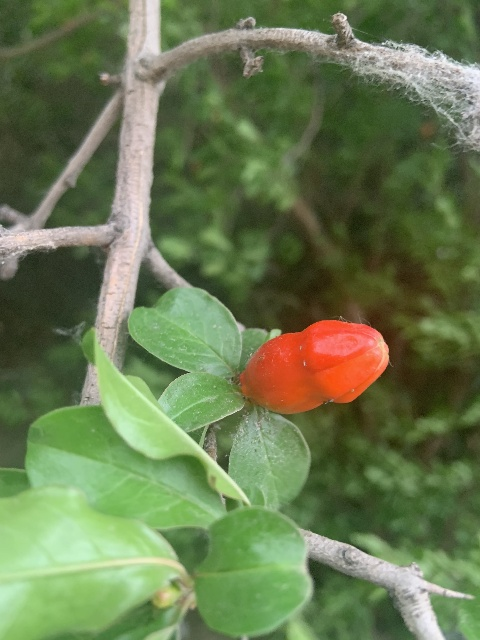bud: (239, 319, 389, 414)
